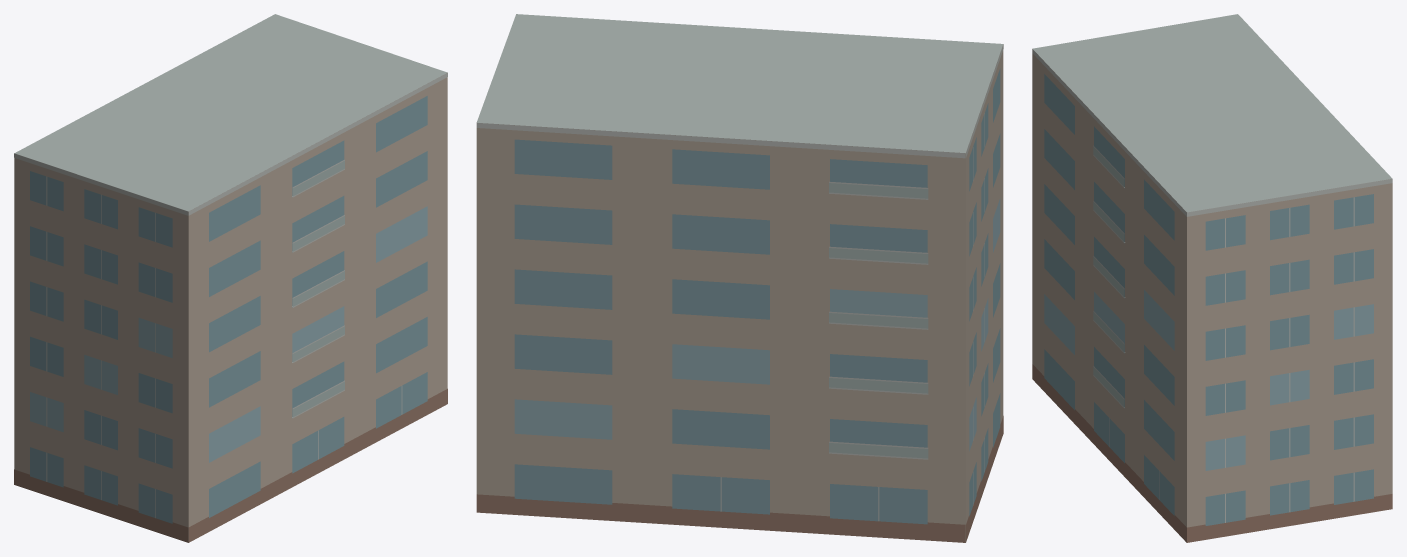
File: survey-upis-33042543.glb
3 renders of one model, left to right at view 1: azimuth 30°, elevation 25°; view 2: azimuth 150°, elevation 25°; view 3: azimuth 270°, elevation 25°, orthographic. The views are drawn at different scales.
Visible parts, largest first — view 1: survey-upis-33042543.tmp; view 2: survey-upis-33042543.tmp; view 3: survey-upis-33042543.tmp.
Boxes of the visible parts, <box> form: survey-upis-33042543.tmp: <box>14,14,447,542</box>; survey-upis-33042543.tmp: <box>476,14,1003,542</box>; survey-upis-33042543.tmp: <box>1032,14,1392,542</box>.
Size of the model in its own units: 23.59 by 18.3 by 18.09.
